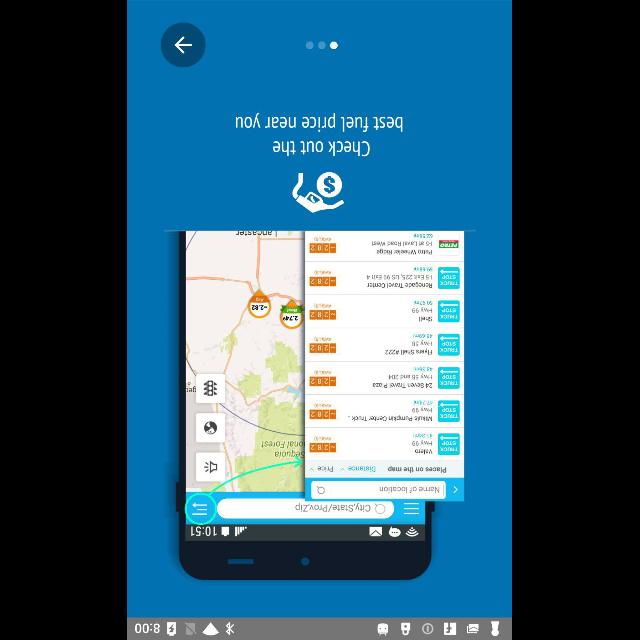button: (162, 22, 206, 68)
image: (177, 230, 465, 580), (292, 172, 346, 212)
pageindicator: (306, 41, 338, 49)
text: (236, 112, 404, 156)
uppertaskbar: (128, 617, 512, 639)
